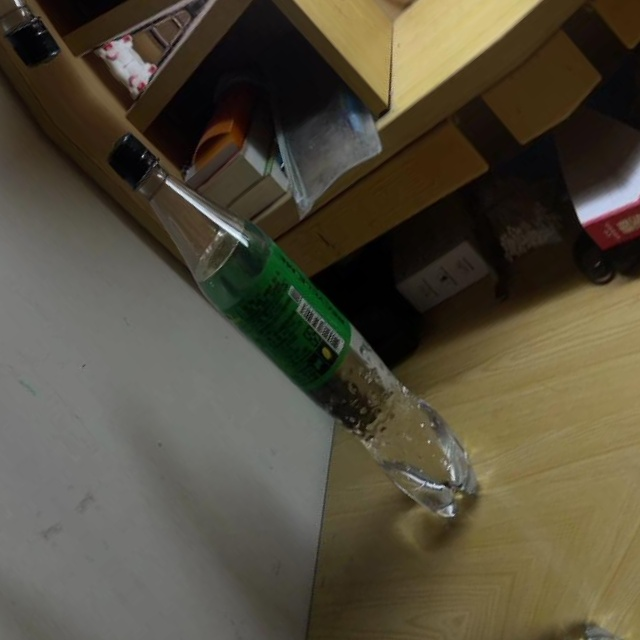Sprite: (91, 95, 497, 551)
